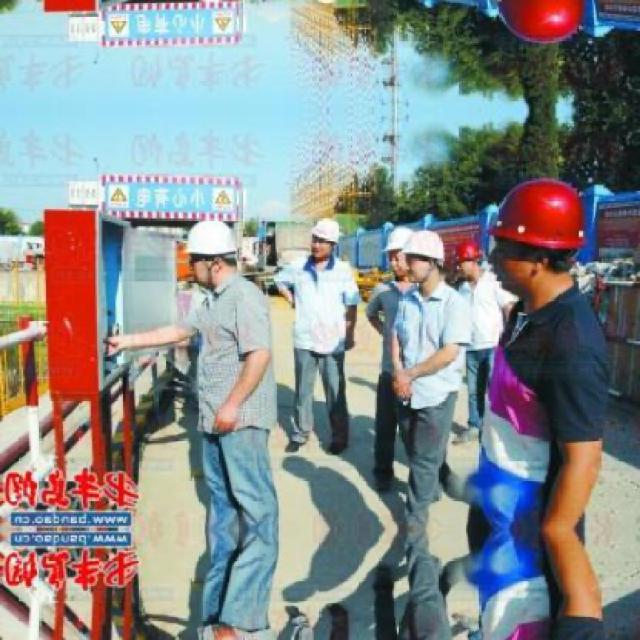con casco: (452, 170, 614, 334), (160, 202, 259, 290), (417, 210, 493, 295), (291, 200, 347, 272), (401, 224, 468, 280), (379, 203, 416, 265)
